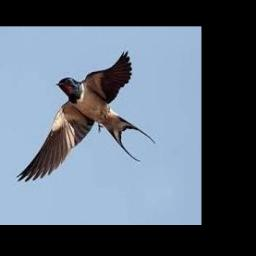Swallow: (15, 50, 155, 181)
